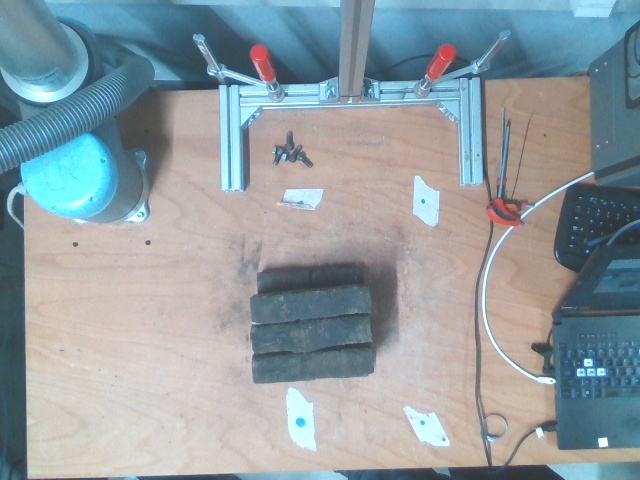brick-side: (252, 284, 369, 324), (255, 314, 372, 354), (251, 352, 373, 381)
